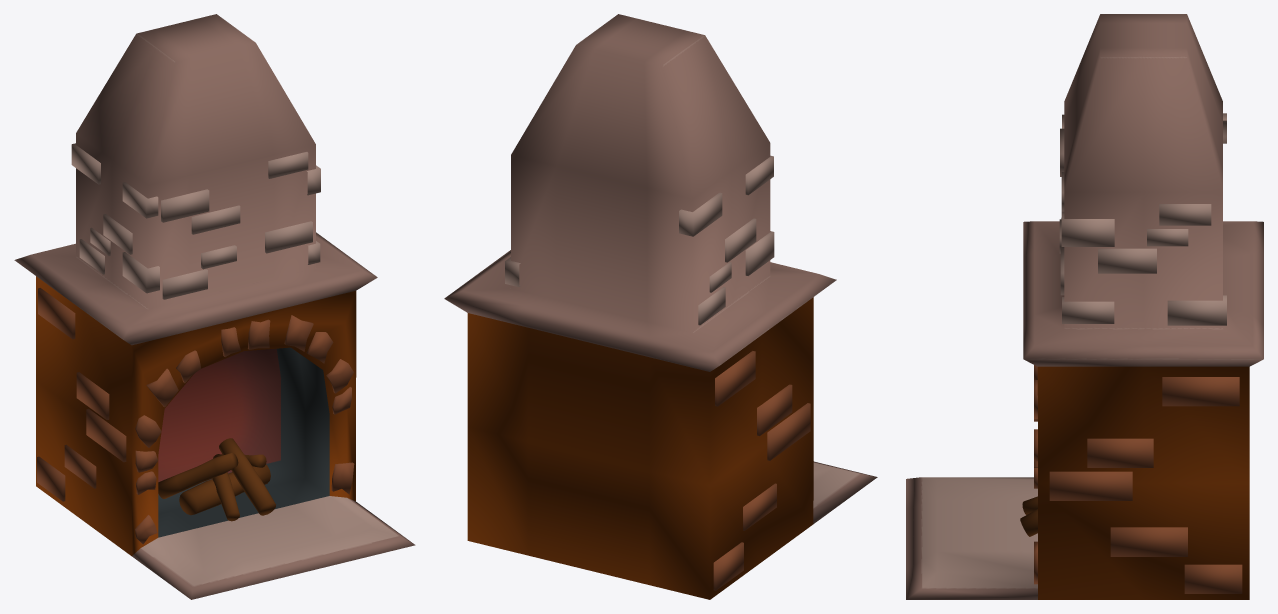
Rendered from Fireplace.fbx.
3 renders of one model, left to right at view 1: azimuth 30°, elevation 25°; view 2: azimuth 150°, elevation 25°; view 3: azimuth 270°, elevation 25°, orthographic. The views are drawn at different scales.
Parts seen in each view (by area): view 1: Fireplace; view 2: Fireplace; view 3: Fireplace.
Boxes of the visible parts, x1,y1,x2,y2 form: Fireplace: (14, 14, 415, 599); Fireplace: (444, 14, 877, 599); Fireplace: (906, 14, 1263, 599).
Size of the model in its own units: 3.07 by 5.24 by 3.37.
1 material, 1 textured.
